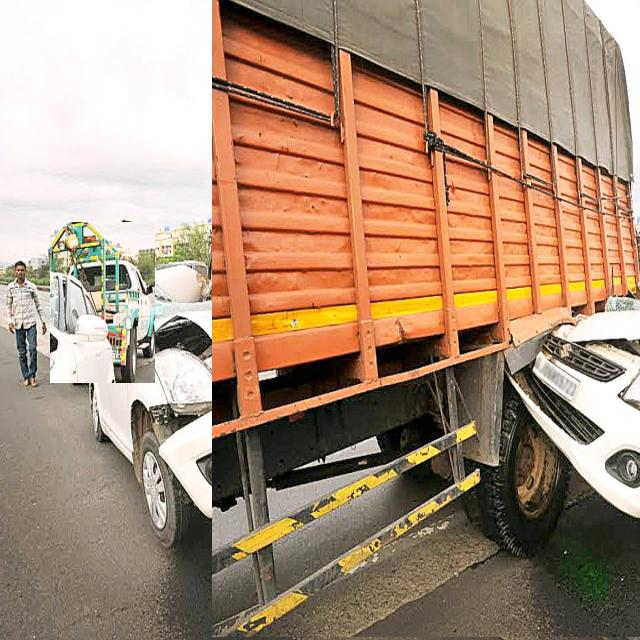accident: (89, 264, 345, 547)
truck: (212, 0, 640, 637), (50, 222, 155, 383)
